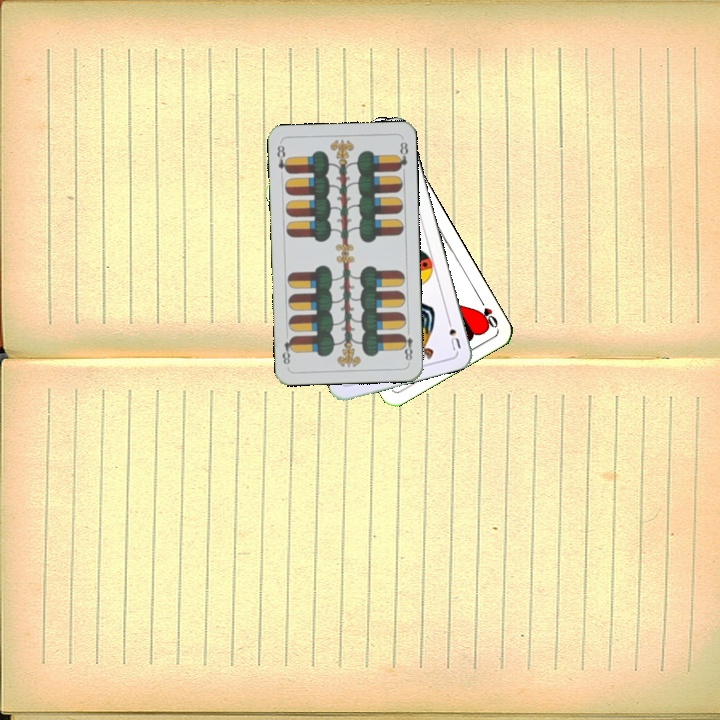E8: (273, 141, 292, 176), (398, 325, 415, 363)
HO: (474, 294, 500, 331)
SU: (443, 313, 463, 353)
